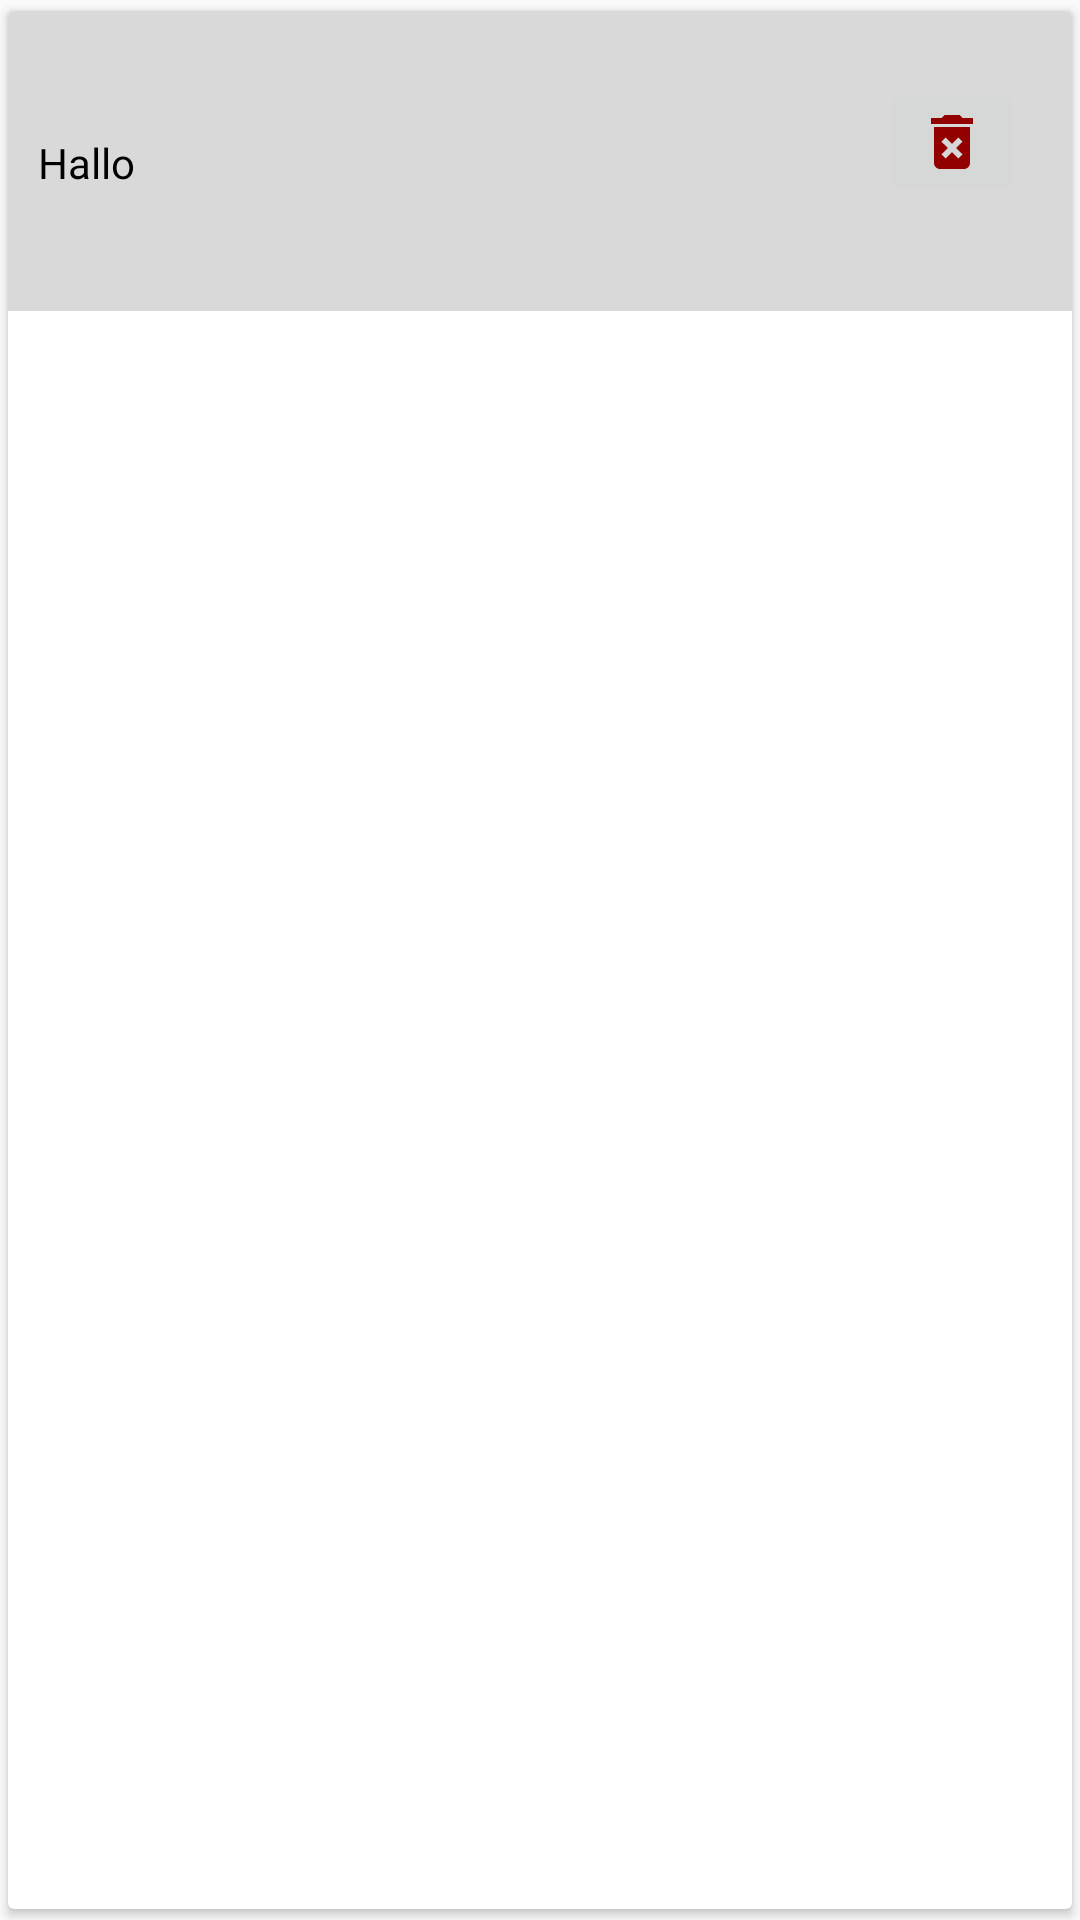

Icons on this 1080 x 1920 Android screen, each with its box as (x1, y1, x2, y2):
delete: (931, 115, 973, 169)
